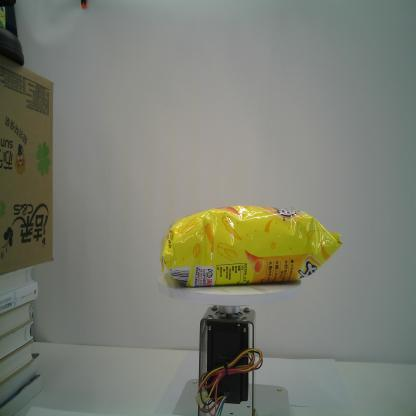Puffed Food: (157, 202, 344, 291)
